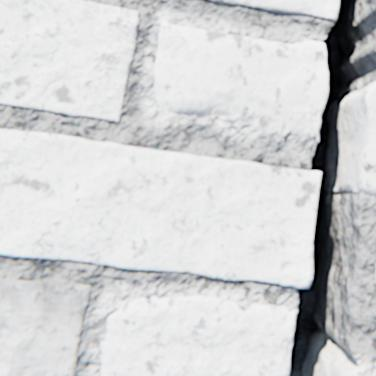brick: (0, 129, 321, 287), (0, 0, 140, 121), (0, 277, 91, 375), (210, 0, 338, 20)
broken_brick: (155, 19, 328, 141), (102, 294, 297, 375), (351, 82, 375, 194), (335, 355, 357, 375)
crack: (288, 0, 373, 375)
